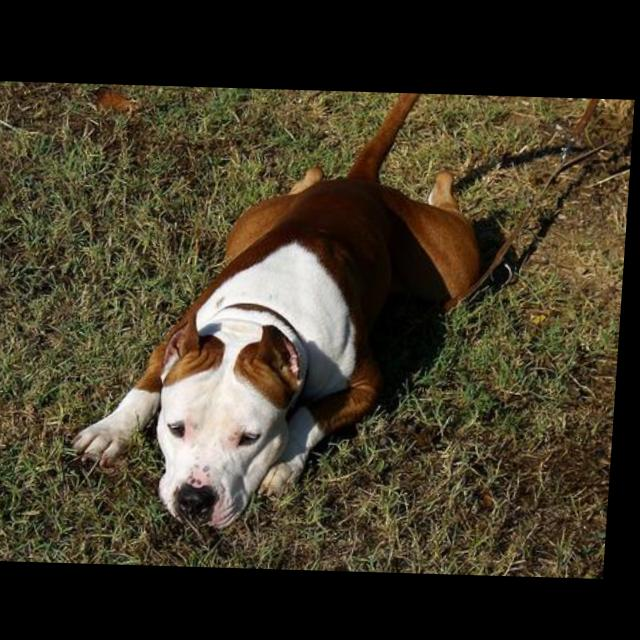amstaff: (74, 84, 494, 534)
